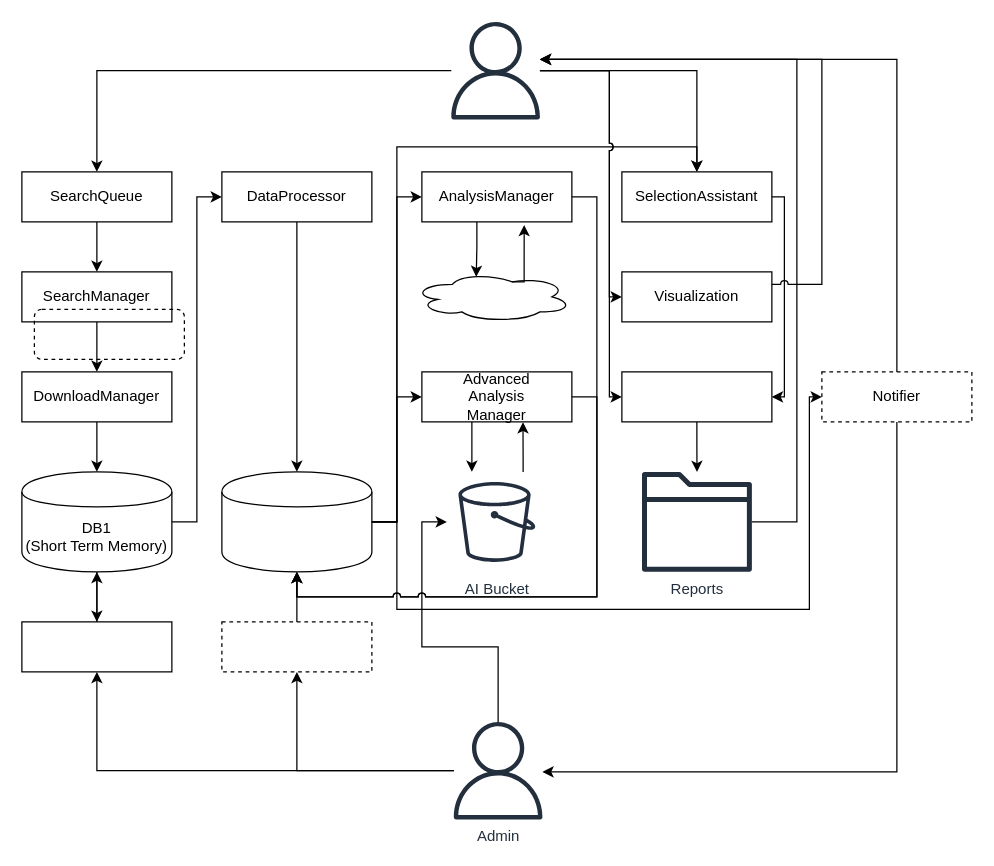
Some shapes in this 994 by 866 pixel diagram are drawn without their labels. The centre of each missing label's shape, as x and y in pixels:
Automation Manager: the point at 296,646
DB2 (Long Term Memory): the point at 296,521
Exporter: the point at 696,396
MemoryManager: the point at 96,646
OSRM: the point at 491,296
Scheduler: the point at 108,333
User: the point at 495,70
